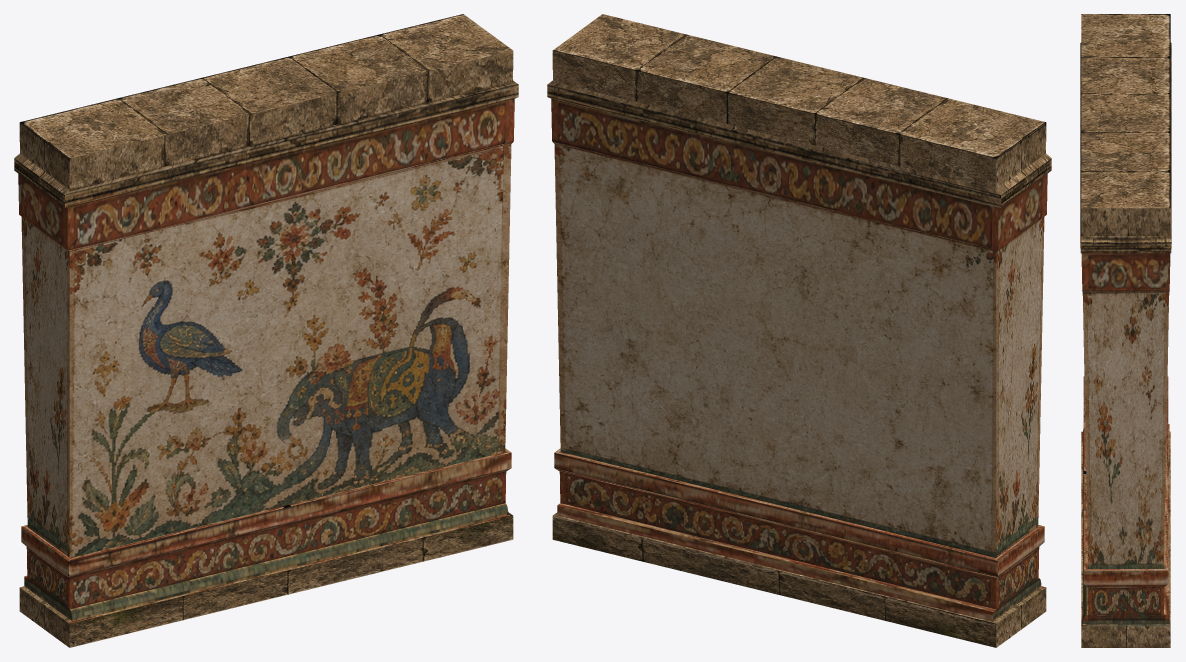
The model's file is peacock wall c.fbx.
The picture shows the model from 3 angles, left to right: view 1: azimuth 30°, elevation 25°; view 2: azimuth 150°, elevation 25°; view 3: azimuth 270°, elevation 25°; orthographic projection. The views are drawn at different scales.
Parts seen in each view (by area): view 1: Cube.035; view 2: Cube.035; view 3: Cube.035.
Part boxes in pixels (x1=…): Cube.035: x1=14, y1=14, x2=518, y2=647; Cube.035: x1=547, y1=14, x2=1051, y2=647; Cube.035: x1=1080, y1=14, x2=1171, y2=647.
Size of the model in its own units: 391 by 75.78 by 403.
1 material, 1 textured.
